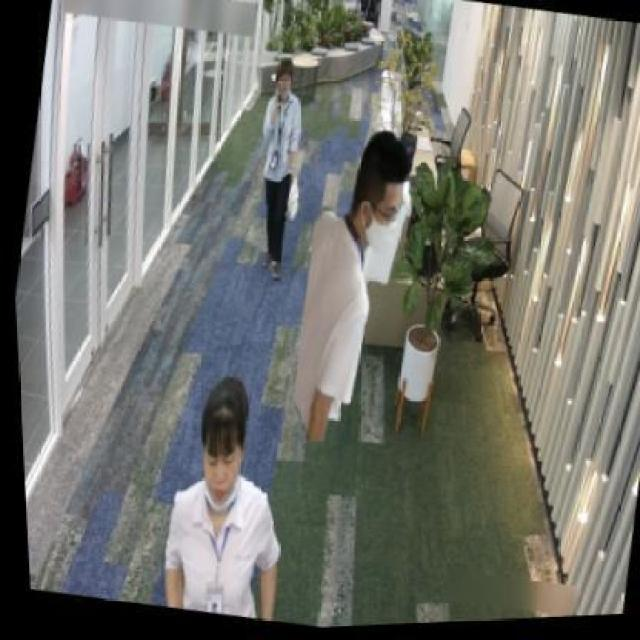hairnet: (201, 464, 240, 514), (272, 77, 295, 100)
